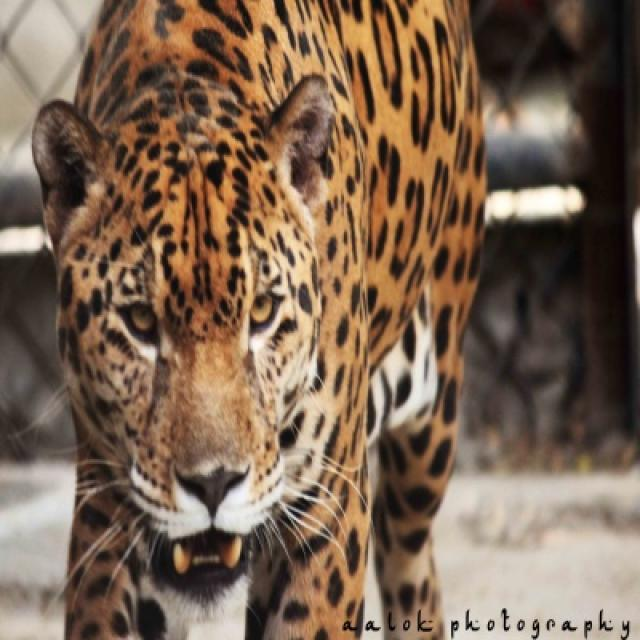Jaguar: (29, 0, 488, 638)
